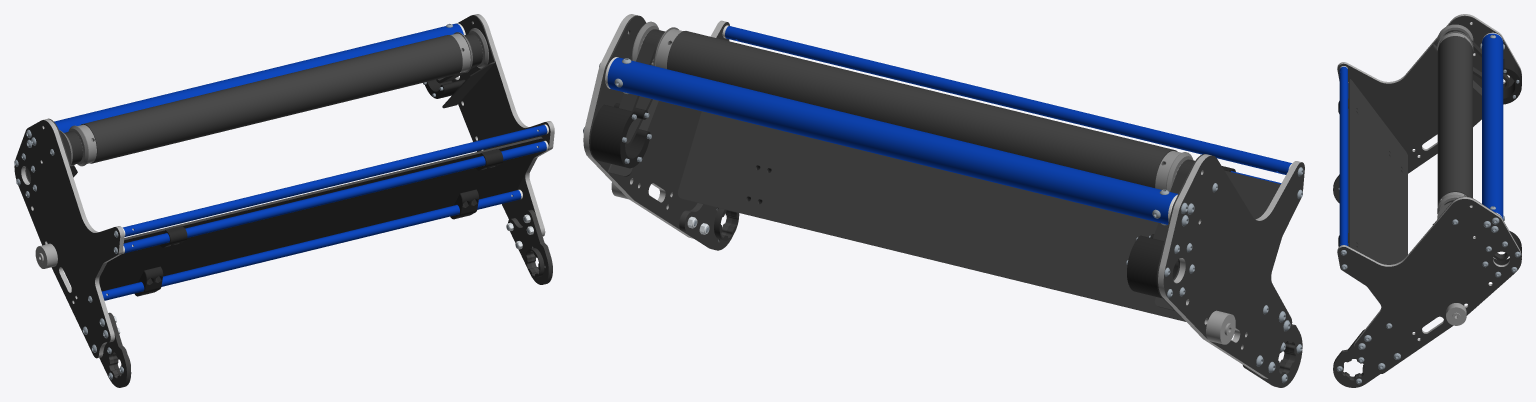
3 renders of one model, left to right at view 1: azimuth 30°, elevation 25°; view 2: azimuth 150°, elevation 25°; view 3: azimuth 270°, elevation 25°, orthographic. The views are drawn at different scales.
Visible parts, largest first — view 1: 6328-26C-2302 Intake Ramp Plate, 6328-26C-2301 Intake Side Plate (×2), Part 2, 6328-26C-2303 Intake Cross Steel Tube (×3), 6328-26C-2310 Intake Bash Bar!, 6328-26C-2307 Intake AL Plate (×2), 6328-26C-2309 Right Flanged Motor Plate, 6328-26C-2305 Upper Ramp Mounting Block (×2), Part 1, 6328-26C-2216 24T Intake Roller Pulley, 6328-26C-2320 Intake Kraken Spacer, 55t 5mm Belt (+1 smaller); view 2: 6328-26C-2302 Intake Ramp Plate, 6328-26C-2301 Intake Side Plate (×2), Part 2, 6328-26C-2310 Intake Bash Bar!, 6328-26C-2303 Intake Cross Steel Tube, 6328-26C-2320 Intake Kraken Spacer (×2), 6328-26C-2307 Intake AL Plate (×2), 6328-26C-2309 Right Flanged Motor Plate, 55t 5mm Belt, Part 1, 6328-26C-2319 INTAKE SLOT PIN; view 3: 6328-26C-2301 Intake Side Plate (×2), 6328-26C-2302 Intake Ramp Plate, Part 2, 6328-26C-2310 Intake Bash Bar!, 6328-26C-2303 Intake Cross Steel Tube, 6328-26C-2308 Left Flanged Motor Plate, 6328-26C-2307 Intake AL Plate, 6328-26C-2216 24T Intake Roller Pulley (×2), 6328-26C-2320 Intake Kraken Spacer, 6328-26C-2319 INTAKE SLOT PIN, 55t 5mm Belt, Part 1.
Part boxes in pixels (box(x1,y1,x2,y2)): 6328-26C-2302 Intake Ramp Plate: box(99, 136, 542, 291); 6328-26C-2301 Intake Side Plate (×2): box(14, 14, 554, 358); Part 2: box(80, 35, 462, 163); 6328-26C-2303 Intake Cross Steel Tube (×3): box(101, 125, 547, 300); 6328-26C-2310 Intake Bash Bar!: box(54, 23, 463, 132); 6328-26C-2307 Intake AL Plate (×2): box(99, 209, 552, 387); 6328-26C-2309 Right Flanged Motor Plate: box(442, 15, 495, 108); 6328-26C-2305 Upper Ramp Mounting Block (×2): box(134, 189, 478, 296); Part 1: box(77, 33, 470, 163); 6328-26C-2216 24T Intake Roller Pulley: box(59, 125, 94, 166); 6328-26C-2320 Intake Kraken Spacer: box(425, 79, 465, 98); 55t 5mm Belt: box(436, 33, 482, 83); 6328-26C-2302 Intake Ramp Plate: box(678, 111, 1280, 333); 6328-26C-2301 Intake Side Plate (×2): box(583, 14, 1304, 379); Part 2: box(667, 31, 1177, 187); 6328-26C-2310 Intake Bash Bar!: box(607, 57, 1177, 224); 6328-26C-2303 Intake Cross Steel Tube: box(725, 26, 1291, 174); 6328-26C-2320 Intake Kraken Spacer (×2): box(590, 104, 1178, 297); 6328-26C-2307 Intake AL Plate (×2): box(679, 203, 1302, 387); 6328-26C-2309 Right Flanged Motor Plate: box(589, 15, 659, 176); 55t 5mm Belt: box(619, 29, 664, 147); Part 1: box(656, 29, 1181, 189); 6328-26C-2319 INTAKE SLOT PIN: box(1206, 310, 1235, 344); 6328-26C-2301 Intake Side Plate (×2): box(1337, 14, 1521, 373); 6328-26C-2302 Intake Ramp Plate: box(1348, 79, 1407, 264); Part 2: box(1437, 36, 1472, 206); 6328-26C-2310 Intake Bash Bar!: box(1482, 33, 1503, 219); 6328-26C-2303 Intake Cross Steel Tube: box(1339, 66, 1347, 245); 6328-26C-2308 Left Flanged Motor Plate: box(1432, 15, 1520, 96); 6328-26C-2307 Intake AL Plate: box(1333, 329, 1379, 387); 6328-26C-2216 24T Intake Roller Pulley (×2): box(1437, 24, 1473, 218); 6328-26C-2320 Intake Kraken Spacer: box(1503, 58, 1521, 104); 6328-26C-2319 INTAKE SLOT PIN: box(1446, 303, 1466, 325); 55t 5mm Belt: box(1444, 30, 1508, 90); Part 1: box(1438, 33, 1472, 203).
Size of the model in its own units: 0.6871 by 0.3135 by 0.2808.
